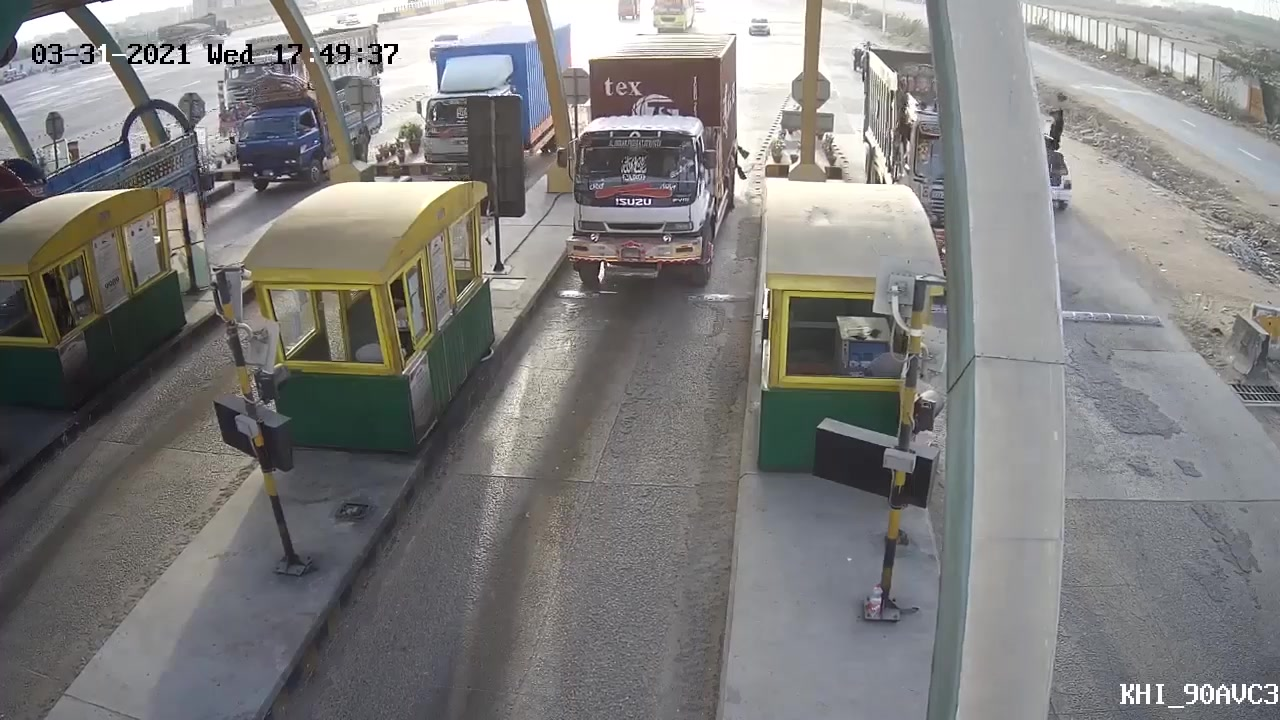F5: (564, 52, 725, 277)
